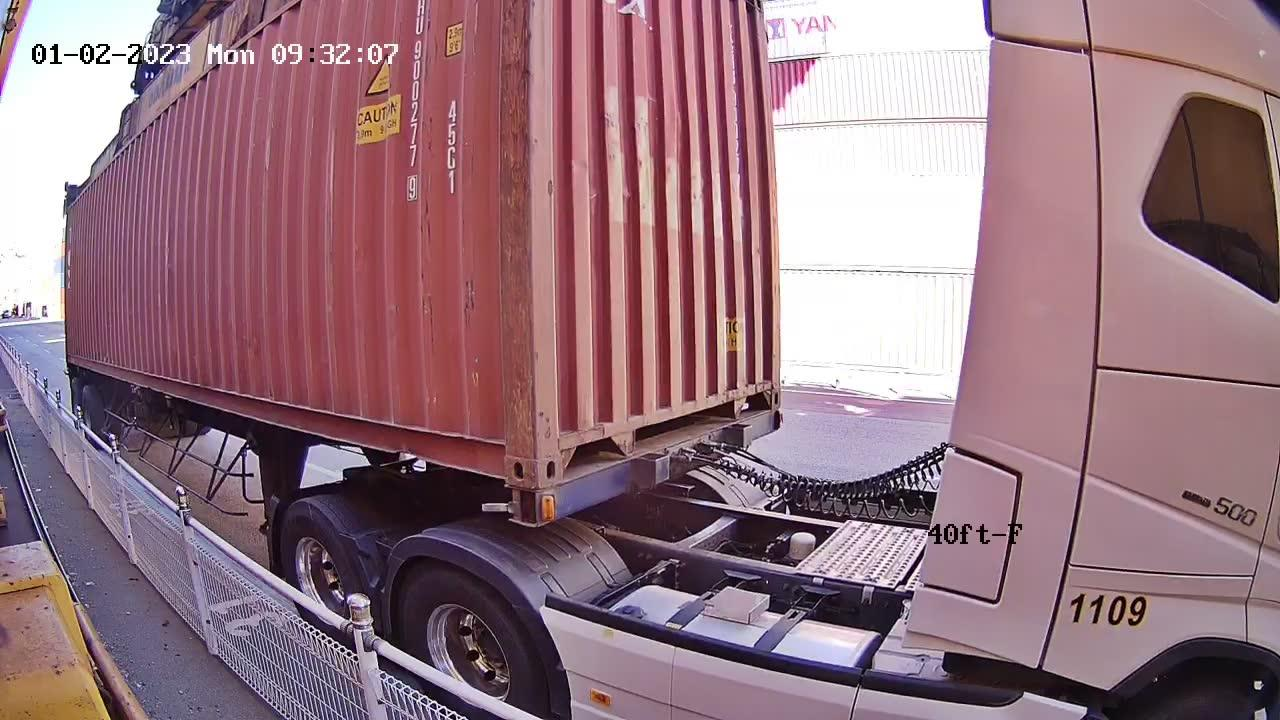Chassis: (501, 409, 782, 524)
Cone: (502, 485, 536, 524)
Hole_L: (536, 418, 587, 488)
Hole_R: (478, 417, 537, 491), (749, 361, 782, 412)
Tire: (400, 568, 542, 719), (281, 505, 363, 646)
